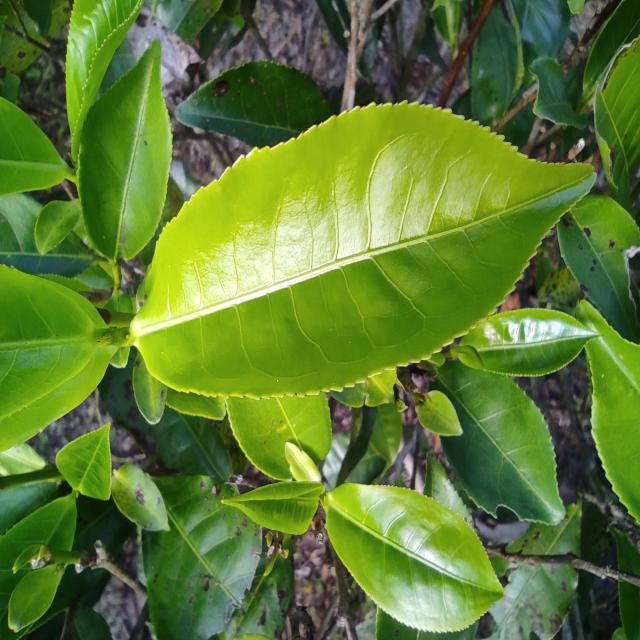Category B(2-4 days): (101, 80, 612, 436)
